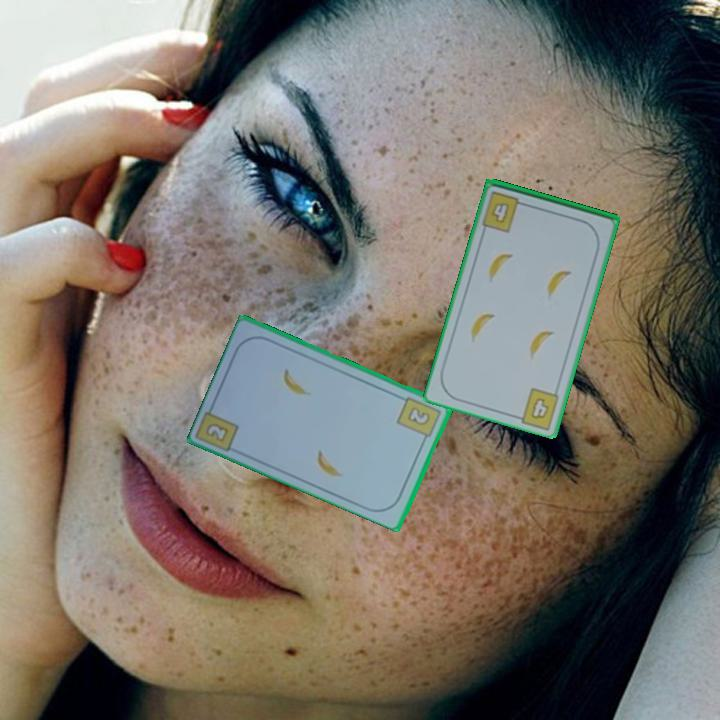2b: (394, 393, 444, 445), (202, 419, 232, 445)
4b: (478, 188, 530, 235), (528, 394, 552, 422)
